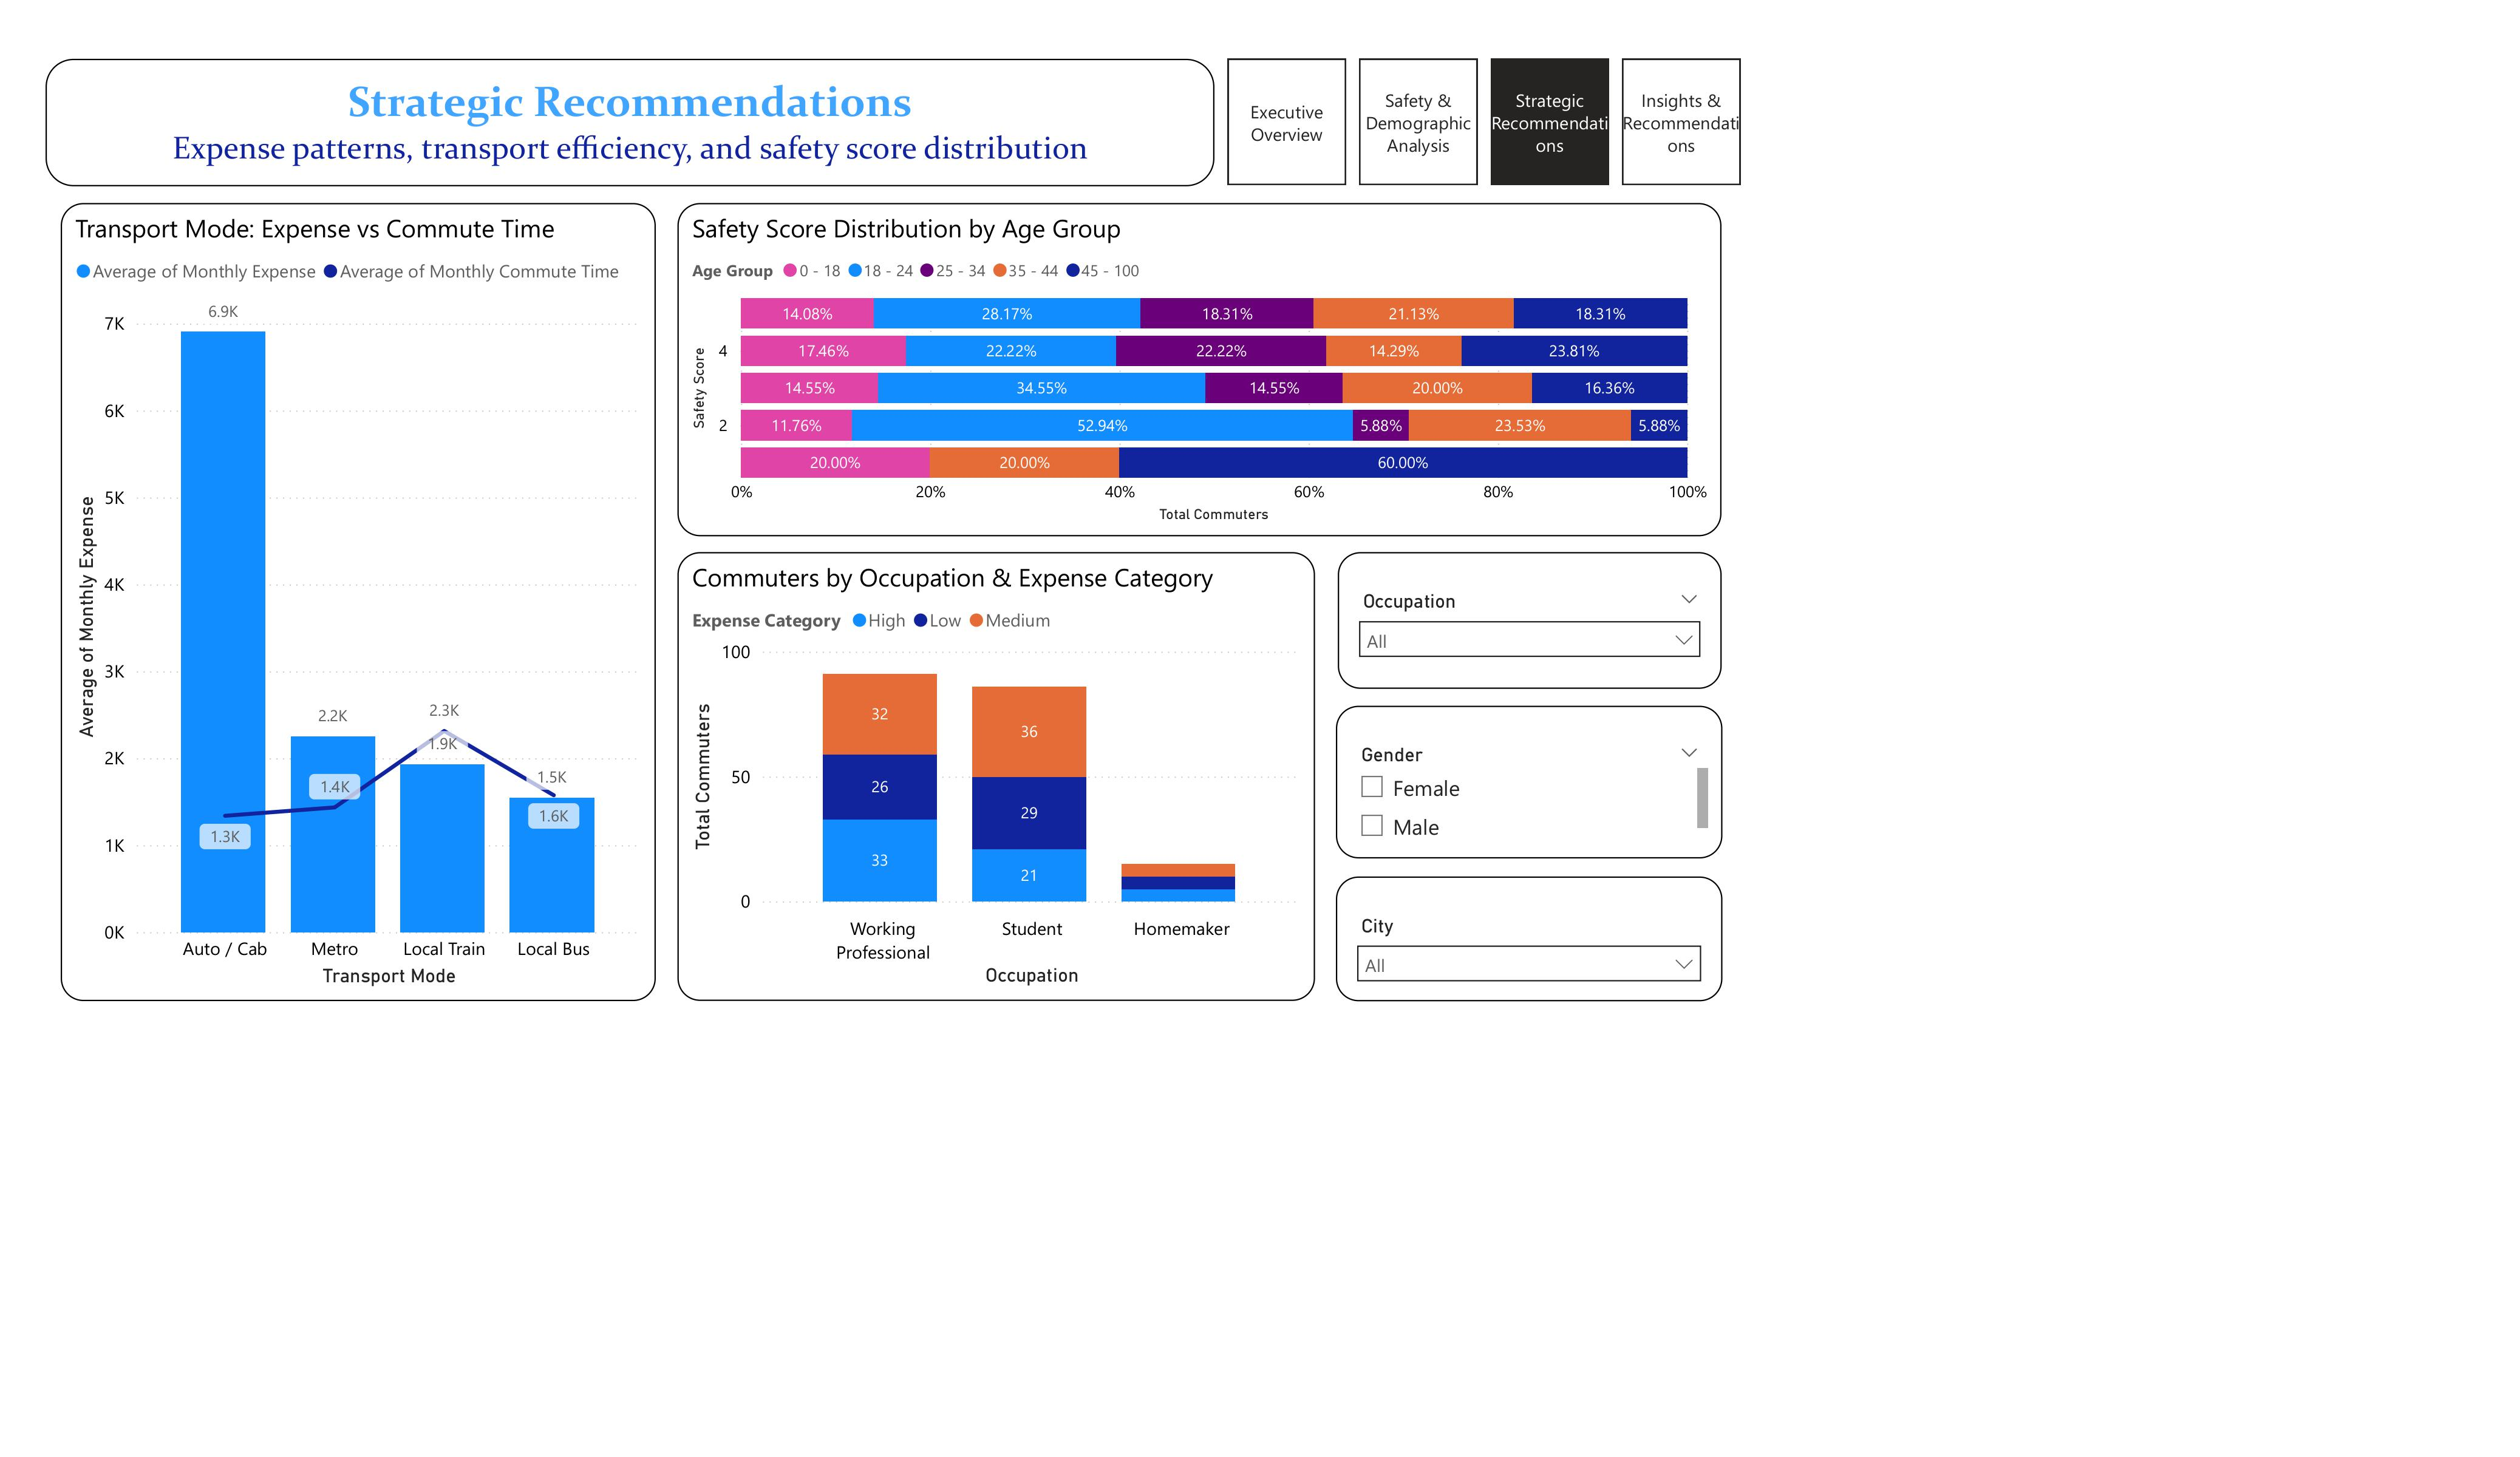

The page's visual inventory and layout, read from the dashboard file:
{"tool":"powerbi","page":{"name":"Strategic Recommendations","canvas":[1280,720],"ordinal":2},"visuals":[{"type":"columnChart","title":"Commuters by Occupation & Expense Category","fields":{"Category":["Public Commute Data.Occupation"],"Y":["DAX Measures.Total Commuters"],"Series":["Public Commute Data.Expense Category"]},"box":[476.1,382,480.5,338],"z":0},{"type":"textbox","box":[0,10.3,880.2,95.5],"z":100},{"type":"lineClusteredColumnComboChart","title":"Transport Mode: Expense vs Commute Time","fields":{"Category":["Public Commute Data.Transport Mode"],"Y":["Avg(Public Commute Data.Monthly Expense)"],"Y2":["Avg(Public Commute Data.Monthly Commute Time)"]},"box":[11.8,119,448.2,601],"z":4000},{"type":"hundredPercentStackedBarChart","title":"Safety Score Distribution by Age Group","fields":{"Category":["Public Commute Data.Safety Score"],"Y":["DAX Measures.Total Commuters"],"Series":["Public Commute Data.Age Group"]},"box":[476.1,119,786.1,251.3],"z":5000},{"type":"pageNavigator","box":[890.4,10.3,389.4,95.5],"z":9000},{"type":"slicer","title":"Filter: Gender","fields":{"Values":["Public Commute Data.Gender"]},"box":[971.3,498.1,290.9,114.6],"z":9001,"group":"g1"},{"type":"slicer","title":"Filter: Occupation","fields":{"Values":["Public Commute Data.Occupation"]},"box":[972.8,382,289.5,102.9],"z":9002,"group":"g1"},{"type":"slicer","title":"Filter: City","fields":{"Values":["Public Commute Data.City"]},"box":[971.3,625.9,290.9,94],"z":9003,"group":"g1"},{"type":"group","id":"g1","title":"Group 1","box":[971.3,382,290.9,338],"z":9004}]}

Visuals, with their boxes on the page's 1280x720 design canvas (x1, y1, x2, y2). These are canvas units, not pixel positions in the 2520x1457 screenshot, which may show the page scaled, cropped or inside an application window:
"Commuters by Occupation & Expense Category" columnChart: [x1=476, y1=382, x2=957, y2=720]
textbox: [x1=0, y1=10, x2=880, y2=106]
"Transport Mode: Expense vs Commute Time" lineClusteredColumnComboChart: [x1=12, y1=119, x2=460, y2=720]
"Safety Score Distribution by Age Group" hundredPercentStackedBarChart: [x1=476, y1=119, x2=1262, y2=370]
pageNavigator: [x1=890, y1=10, x2=1280, y2=106]
"Filter: Gender" slicer: [x1=971, y1=498, x2=1262, y2=613]
"Filter: Occupation" slicer: [x1=973, y1=382, x2=1262, y2=485]
"Filter: City" slicer: [x1=971, y1=626, x2=1262, y2=720]
"Group 1" group: [x1=971, y1=382, x2=1262, y2=720]
